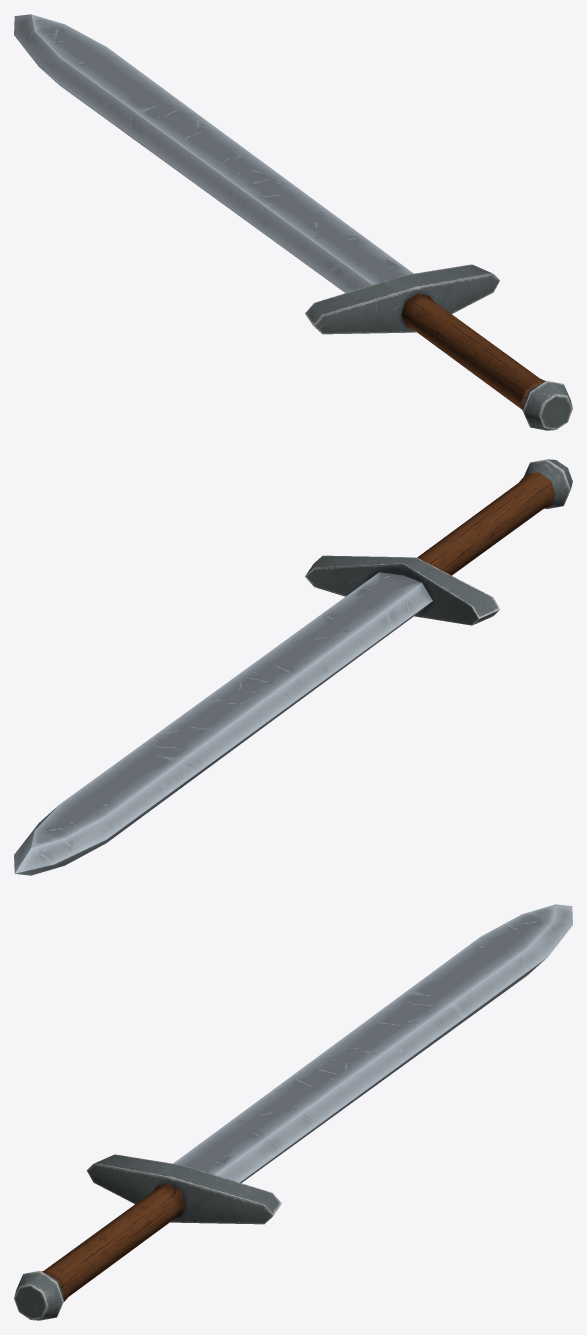
The model's file is sword_two_handed.glb.
3 renders of one model, top to bottom at view 1: azimuth 30°, elevation 25°; view 2: azimuth 150°, elevation 25°; view 3: azimuth 330°, elevation 25°, orthographic.
Visible parts, largest first — view 1: sword_two_handed_sword_blade_0; view 2: sword_two_handed_sword_blade_0; view 3: sword_two_handed_sword_blade_0.
Part boxes in pixels (x1=…): sword_two_handed_sword_blade_0: x1=14, y1=14, x2=572, y2=430; sword_two_handed_sword_blade_0: x1=14, y1=459, x2=572, y2=875; sword_two_handed_sword_blade_0: x1=14, y1=904, x2=572, y2=1320.
Size of the model in its own units: 1.36 by 0.3508 by 6.8.
Materials: 1 (1 with a texture image).
